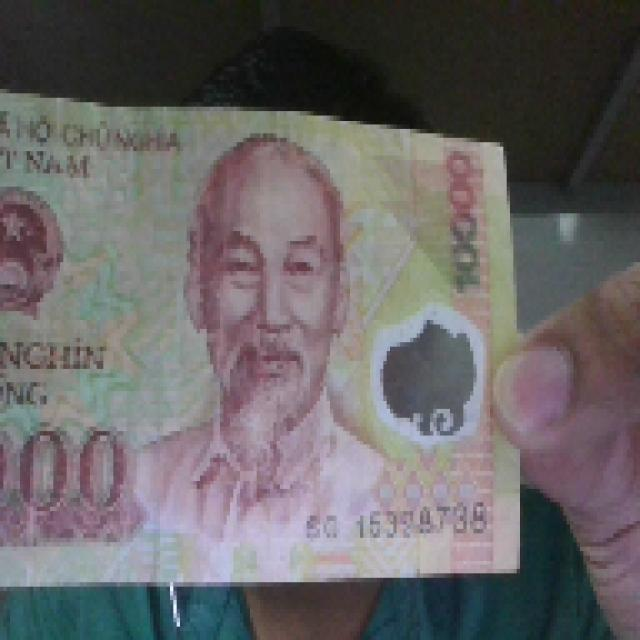10 000 VND: (0, 76, 527, 586)
